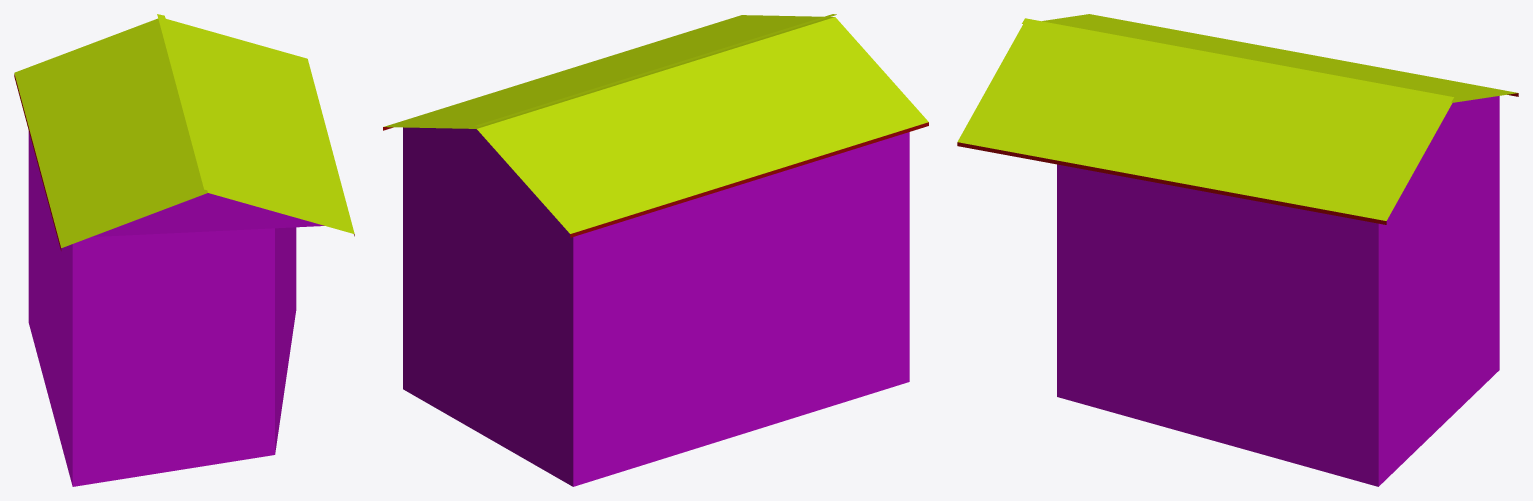
Rendered from rmc_89.glb.
The picture shows the model from 3 angles, left to right: view 1: azimuth 30°, elevation 25°; view 2: azimuth 150°, elevation 25°; view 3: azimuth 270°, elevation 25°; orthographic projection. The views are drawn at different scales.
Visible parts, largest first — view 1: rmc_89; view 2: rmc_89; view 3: rmc_89.
Boxes of the visible parts, x1=… form: rmc_89: x1=14, y1=14, x2=354, y2=486; rmc_89: x1=383, y1=14, x2=928, y2=486; rmc_89: x1=957, y1=14, x2=1518, y2=486.
Bounding box in the file's own units: 13.48 × 10.08 × 15.44.
